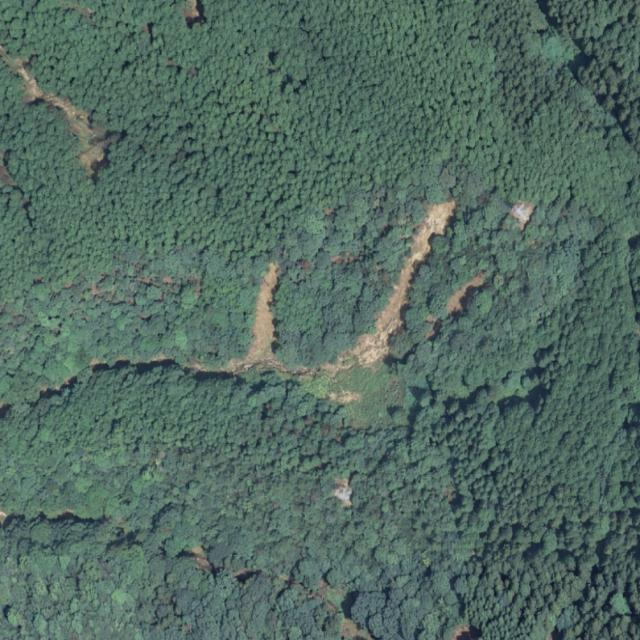landslide: (217, 200, 458, 378), (0, 43, 118, 179), (447, 271, 485, 314)
